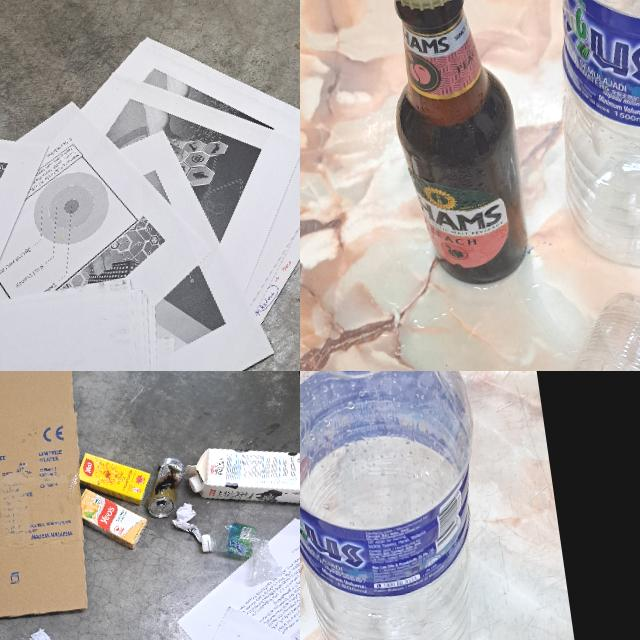aba de lata: (154, 504, 168, 517)
caixinha: (181, 435, 300, 521), (76, 444, 154, 513), (78, 481, 150, 555)
garrafa de vidro: (374, 0, 536, 295)
garrafa plástica: (300, 371, 512, 640), (531, 0, 640, 276), (199, 518, 283, 592)
lata: (142, 456, 190, 518)
papel: (0, 9, 300, 371), (165, 515, 300, 640), (170, 501, 202, 545)
papelão: (0, 371, 106, 640)
tampa plástica: (200, 532, 214, 553), (188, 474, 204, 492)
